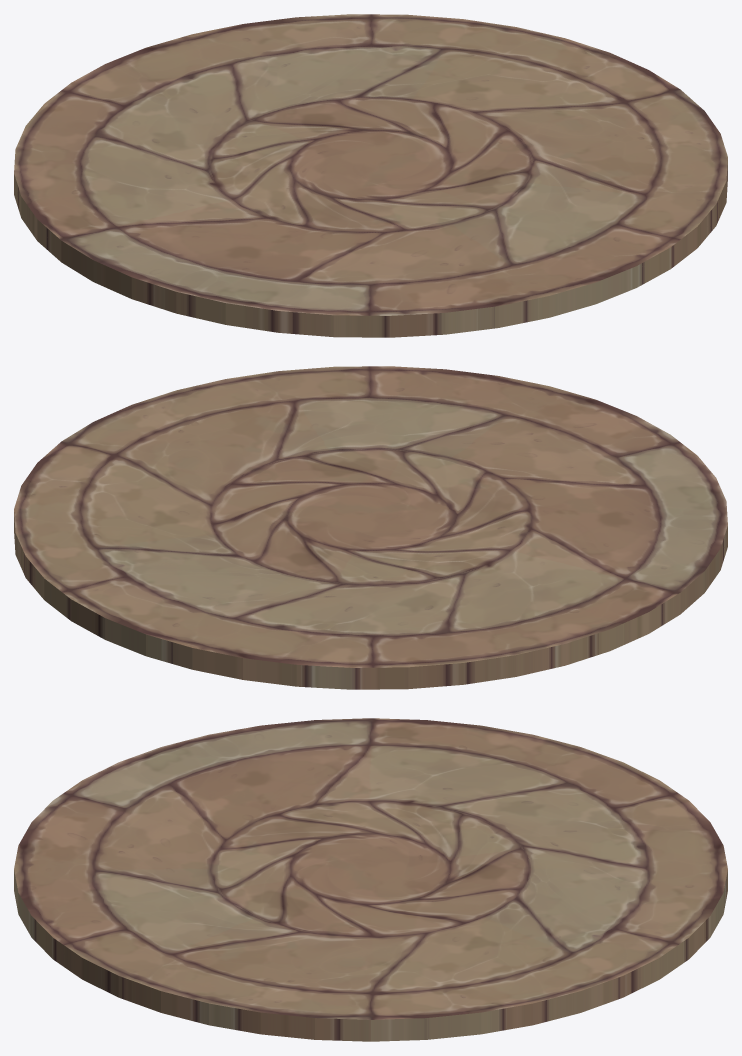
The model's file is roundfloor.fbx.
3 renders of one model, top to bottom at view 1: azimuth 30°, elevation 25°; view 2: azimuth 150°, elevation 25°; view 3: azimuth 270°, elevation 25°, orthographic.
Visible parts, largest first — view 1: Circle; view 2: Circle; view 3: Circle.
Boxes of the visible parts, <box> form: Circle: <box>14,14,727,337</box>; Circle: <box>14,366,727,689</box>; Circle: <box>14,718,727,1041</box>.
Bounding box in the file's own units: 600 × 20.24 × 600.
